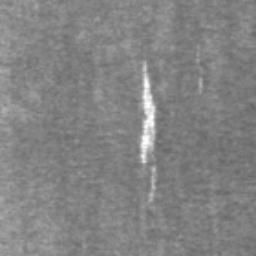White rust: (140, 61, 156, 164), (151, 167, 156, 189)
